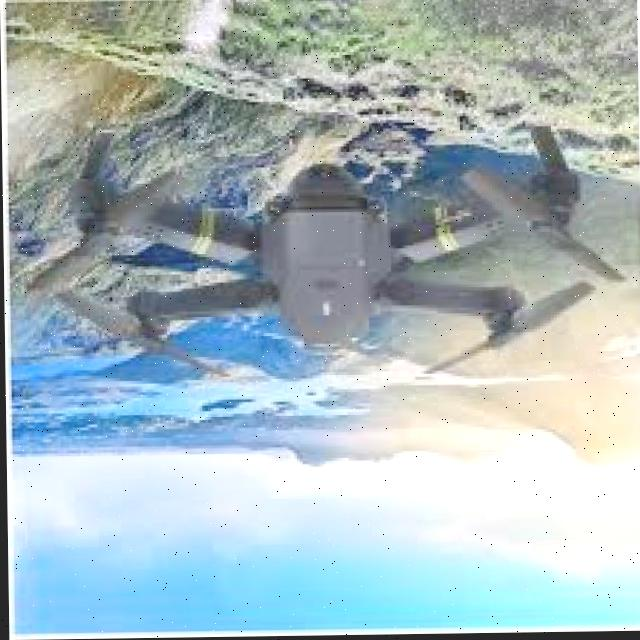drone: (21, 88, 629, 400)
